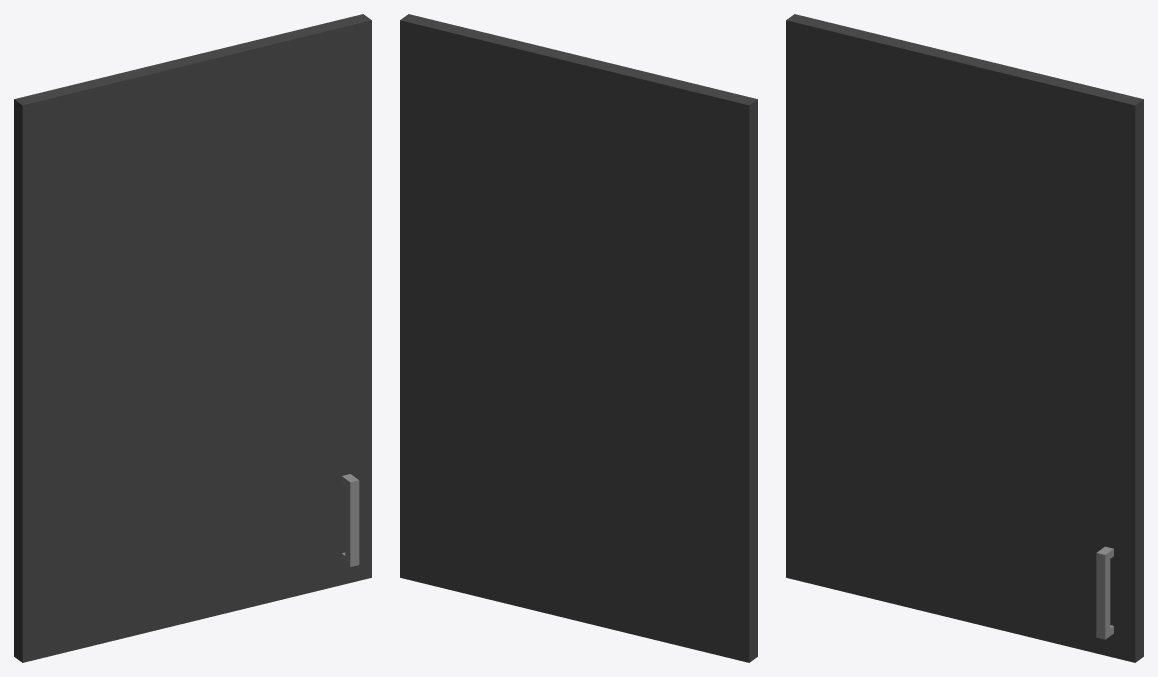
Rendered from Door1_C3_12.fbx.
3 views of the same model, side by side, from view 1: azimuth 30°, elevation 25°; view 2: azimuth 150°, elevation 25°; view 3: azimuth 330°, elevation 25° (orthographic).
Visible parts, largest first — view 1: Door1_C3_12; view 2: Door1_C3_12; view 3: Door1_C3_12.
Boxes of the visible parts, box(x1,y1,x2,y2) form: Door1_C3_12: box(14, 14, 371, 662); Door1_C3_12: box(400, 14, 757, 662); Door1_C3_12: box(786, 14, 1143, 662).
Bounding box in the file's own units: 59 × 90 × 5.03.
